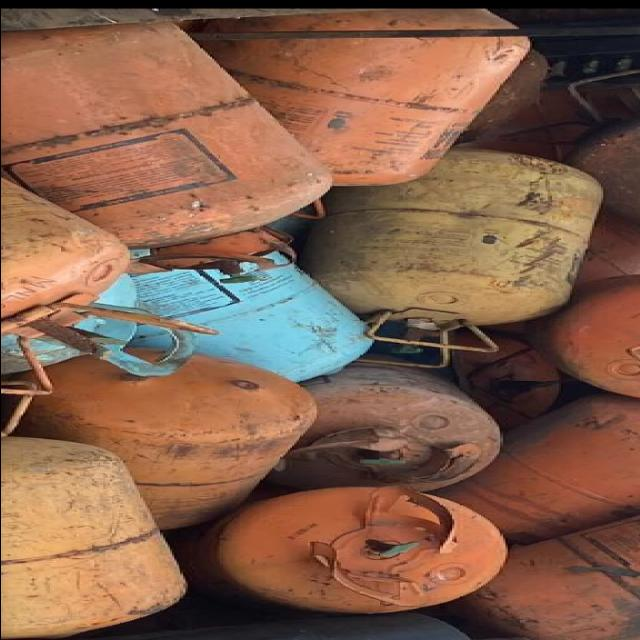cylinder: (3, 22, 333, 284), (309, 150, 607, 369), (217, 485, 507, 614)
